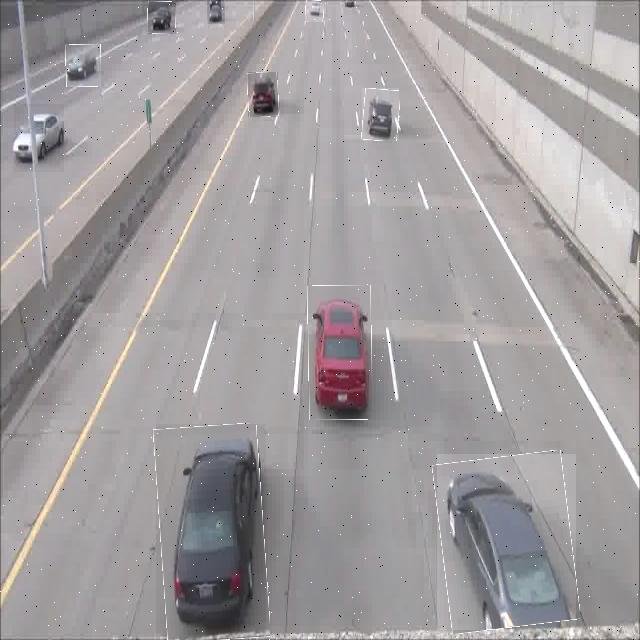Car: (437, 454, 576, 630), (156, 424, 266, 640), (308, 285, 371, 420), (14, 104, 64, 172), (362, 88, 399, 141), (66, 44, 101, 87), (248, 72, 278, 117), (148, 2, 176, 34), (207, 0, 225, 24), (305, 0, 324, 22)
